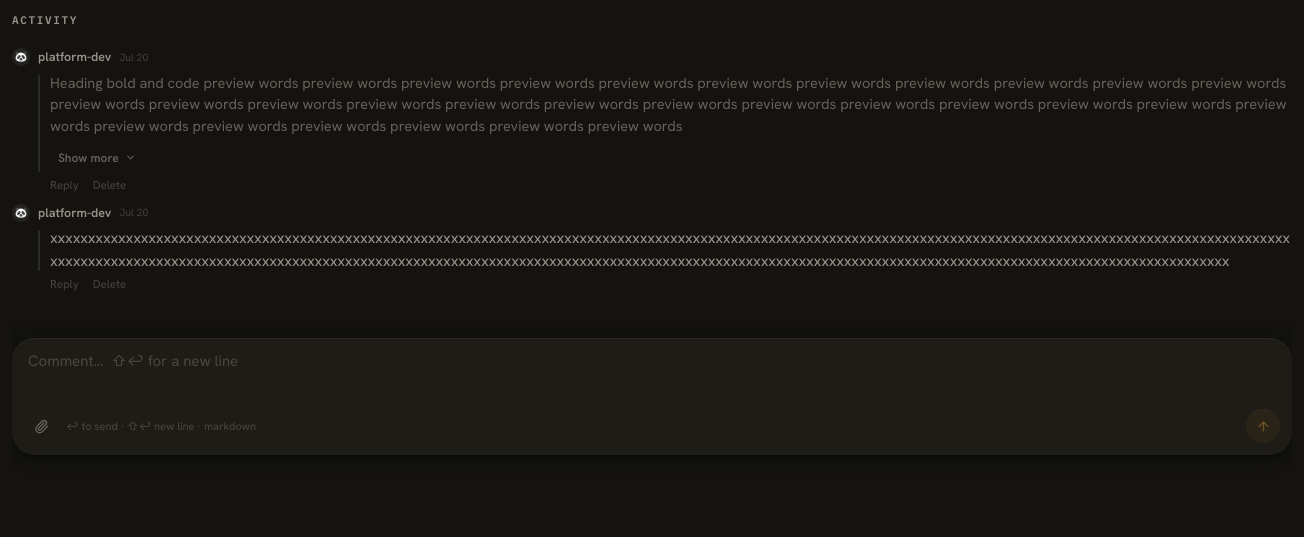
Test: activity comment markdown › collapses only above the boundary, strips syntax from the preview, and toggles both ways
Expected: the text with class "line-clamp-3" is shown, [50,72,1292,137]
Click the button "Show more".
click(97, 158)  # box [50,141,144,175]
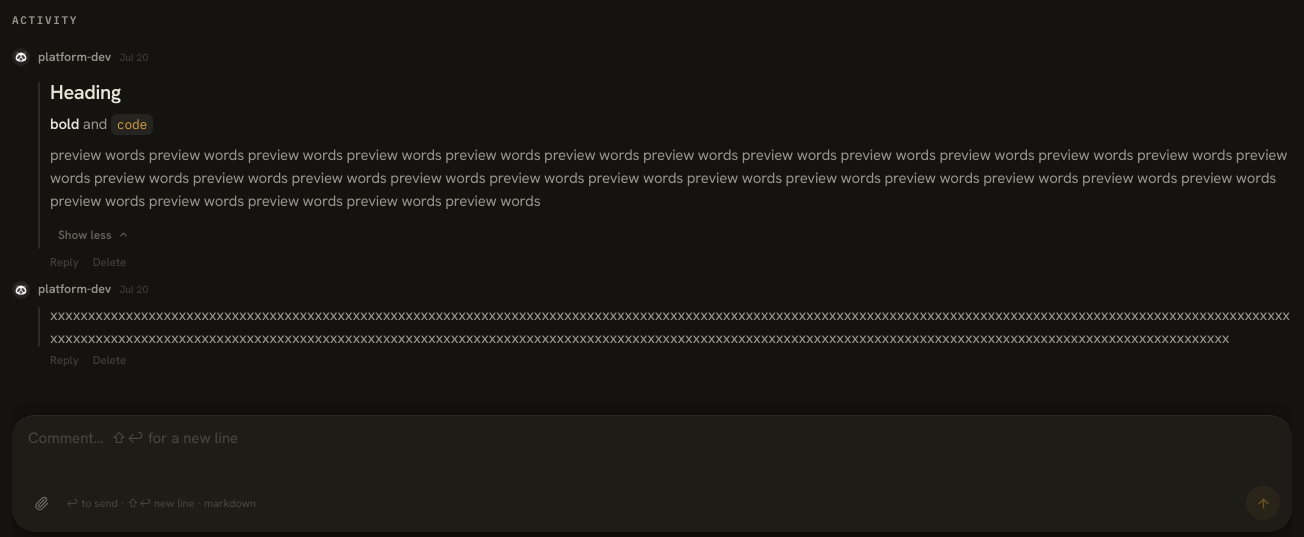
Expected: the button "Show less" is shown
Expected: the text with class "line-clamp-3" is gone
Click the button "Show less".
click(93, 234)  # box [50,218,137,252]
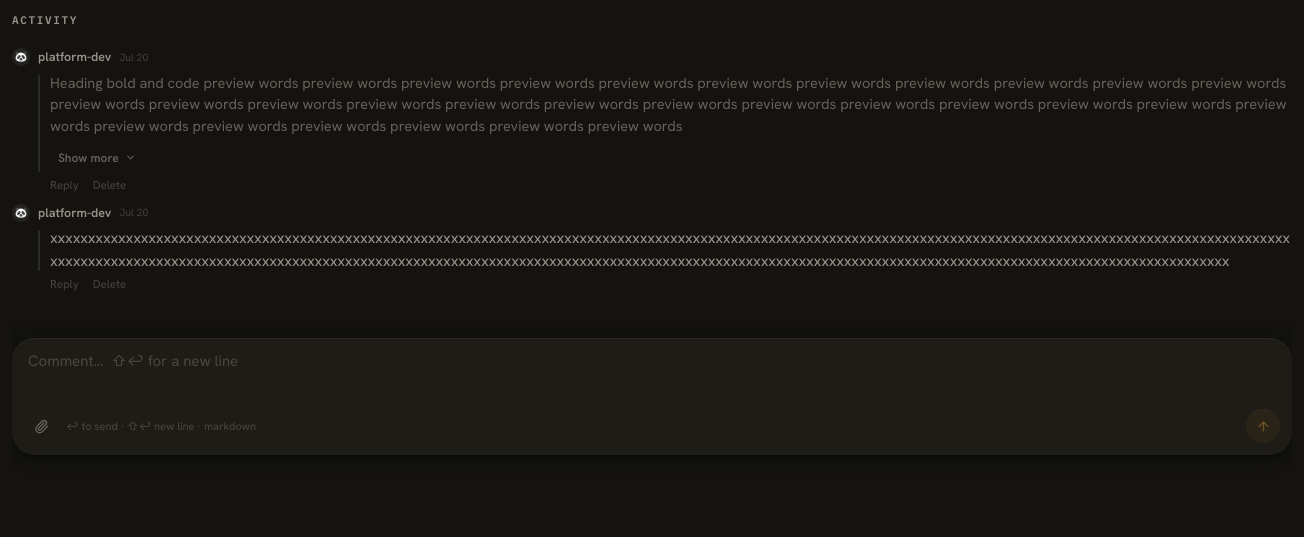
Expected: the text with class "line-clamp-3" is shown, [50,72,1292,137]
Expected: the button "Show more" is shown, [50,141,144,175]
